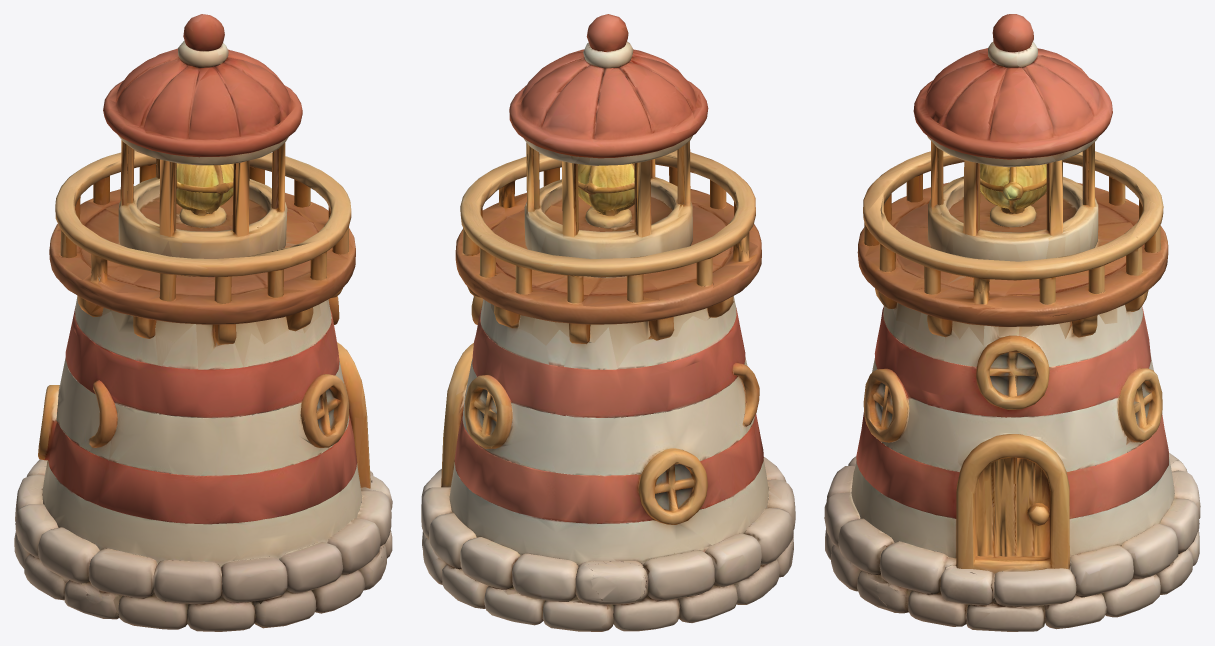
The picture shows the model from 3 angles, left to right: view 1: azimuth 30°, elevation 25°; view 2: azimuth 150°, elevation 25°; view 3: azimuth 270°, elevation 25°; orthographic projection.
Visible parts, largest first — view 1: F22-west-cape-lighthouse; view 2: F22-west-cape-lighthouse; view 3: F22-west-cape-lighthouse.
Boxes of the visible parts, bbox=[...] form: F22-west-cape-lighthouse: bbox=[14, 14, 392, 631]; F22-west-cape-lighthouse: bbox=[421, 14, 795, 631]; F22-west-cape-lighthouse: bbox=[824, 14, 1200, 631].
Size of the model in its own units: 7 by 11 by 6.91.
1 material, 1 textured.
